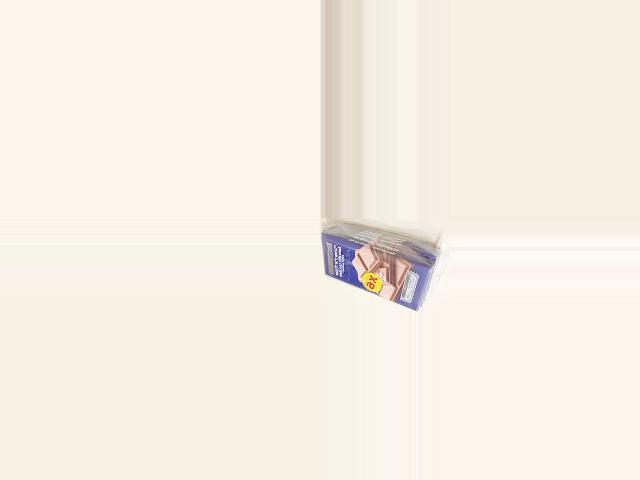chocolate: (320, 225, 432, 312)
